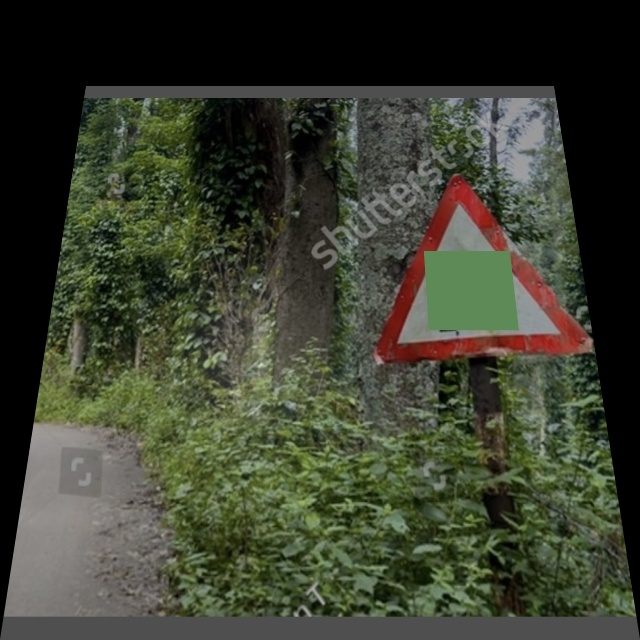Right_Hair_Pin_Bend: (377, 172, 594, 354)
